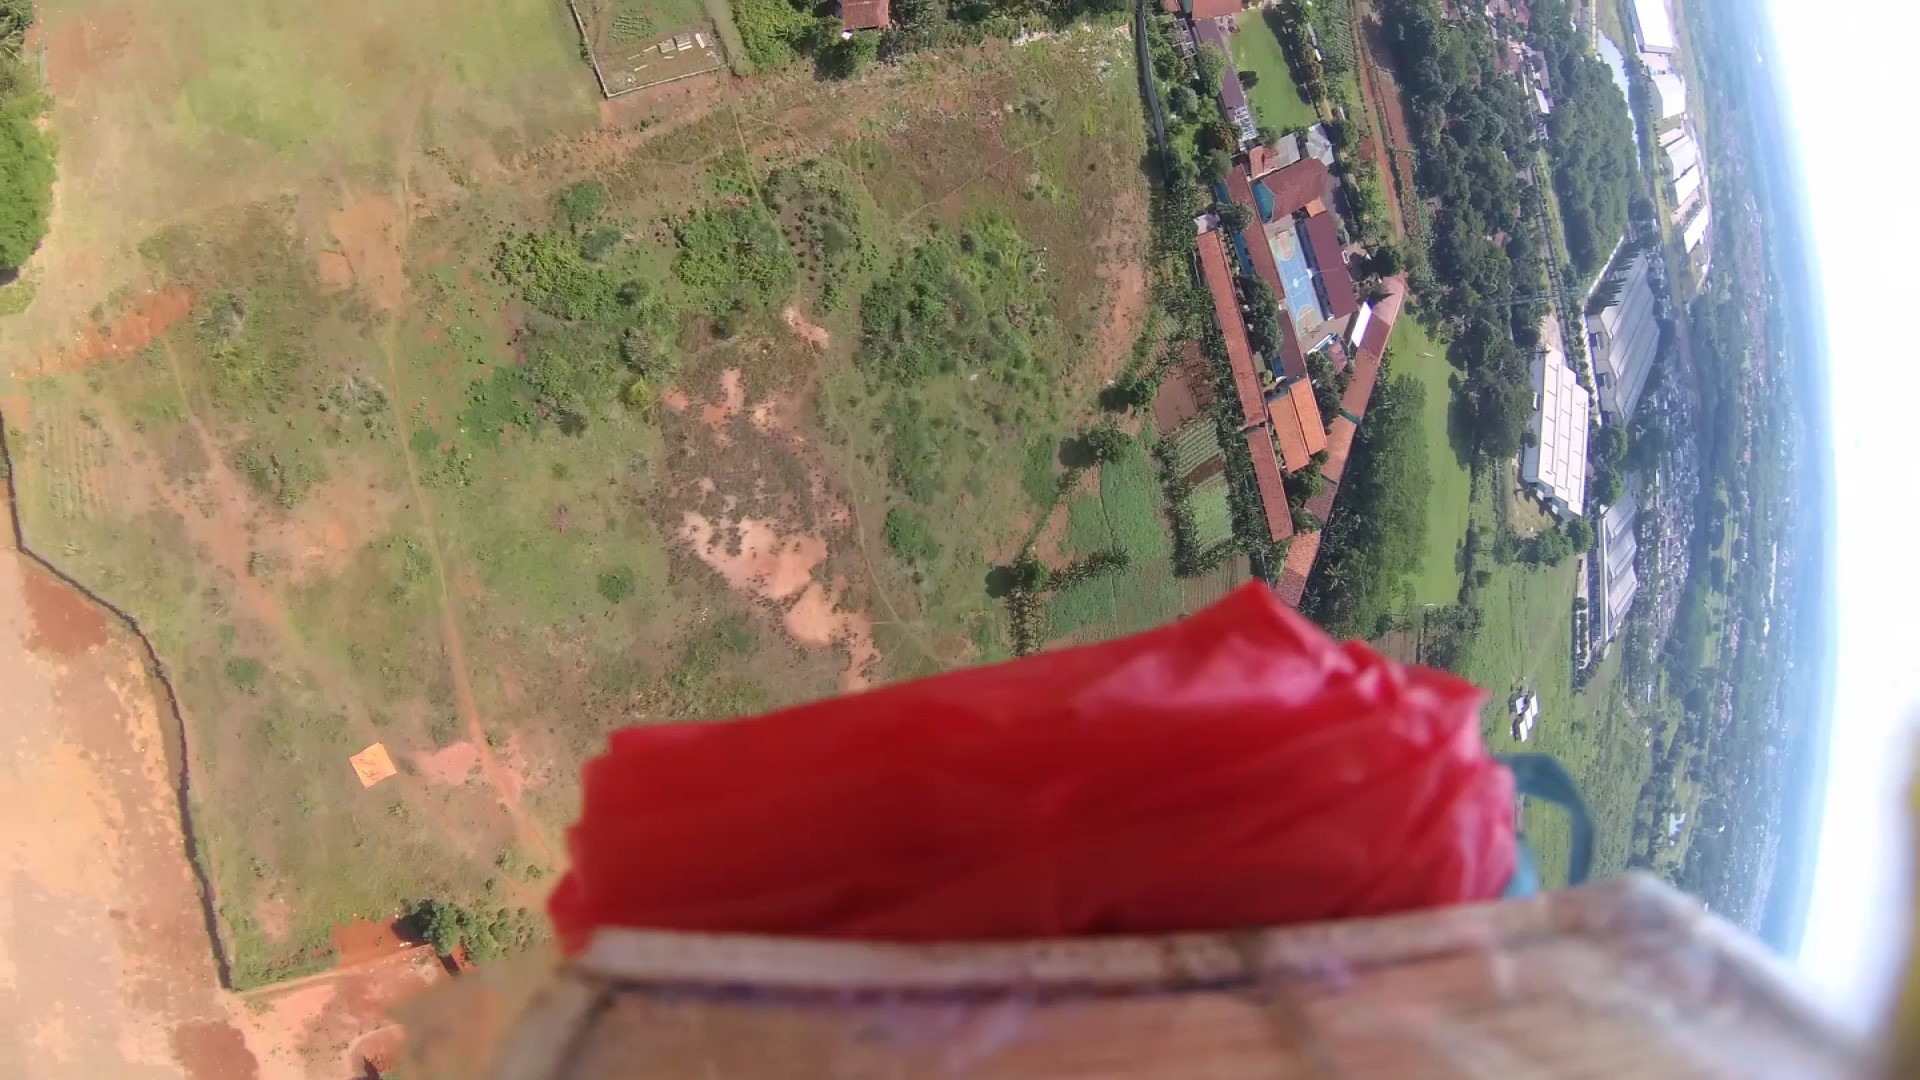Orange Dropzone: (347, 738, 400, 793)
